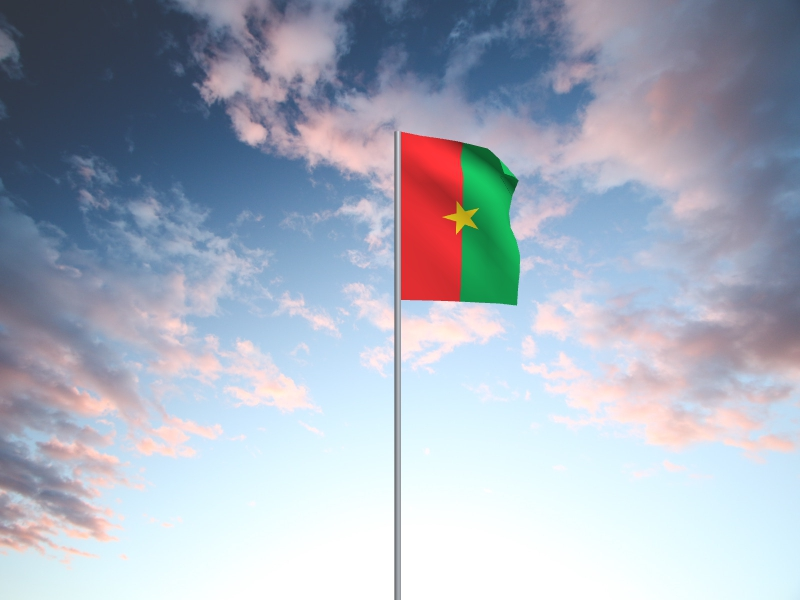bf: (402, 133, 522, 308)
